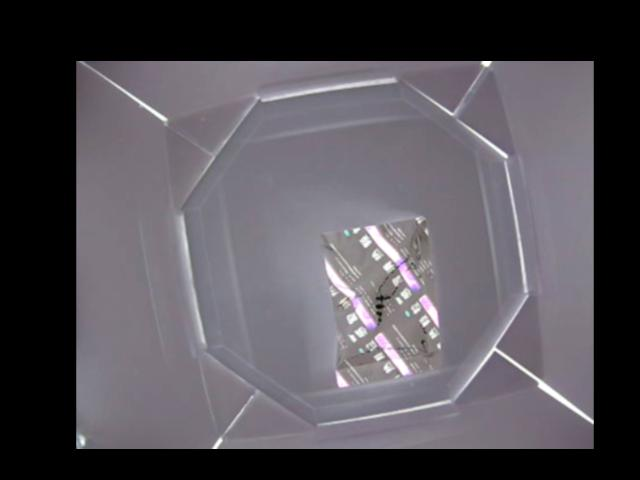Medicine: (321, 213, 445, 390)
